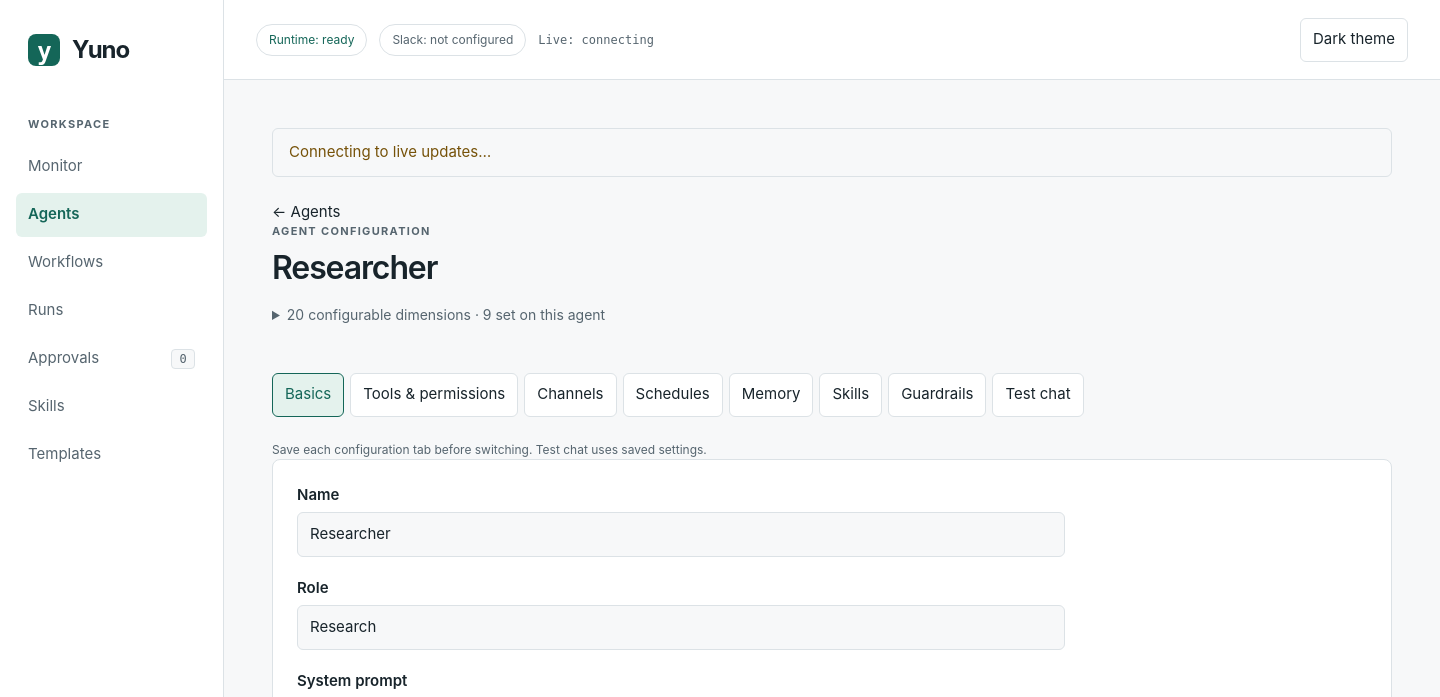
T16 agent editor (R-01, R-02, R-03, R-04, R-05, R-20) › R-01 R-02 shows server field validation beside the responsible field without changing persisted state
Replace the text in the field labelled "Name" with "Taken name" at coordinates (681, 534), box x1=297 y1=512 x2=1065 y2=556
(page scrolled)
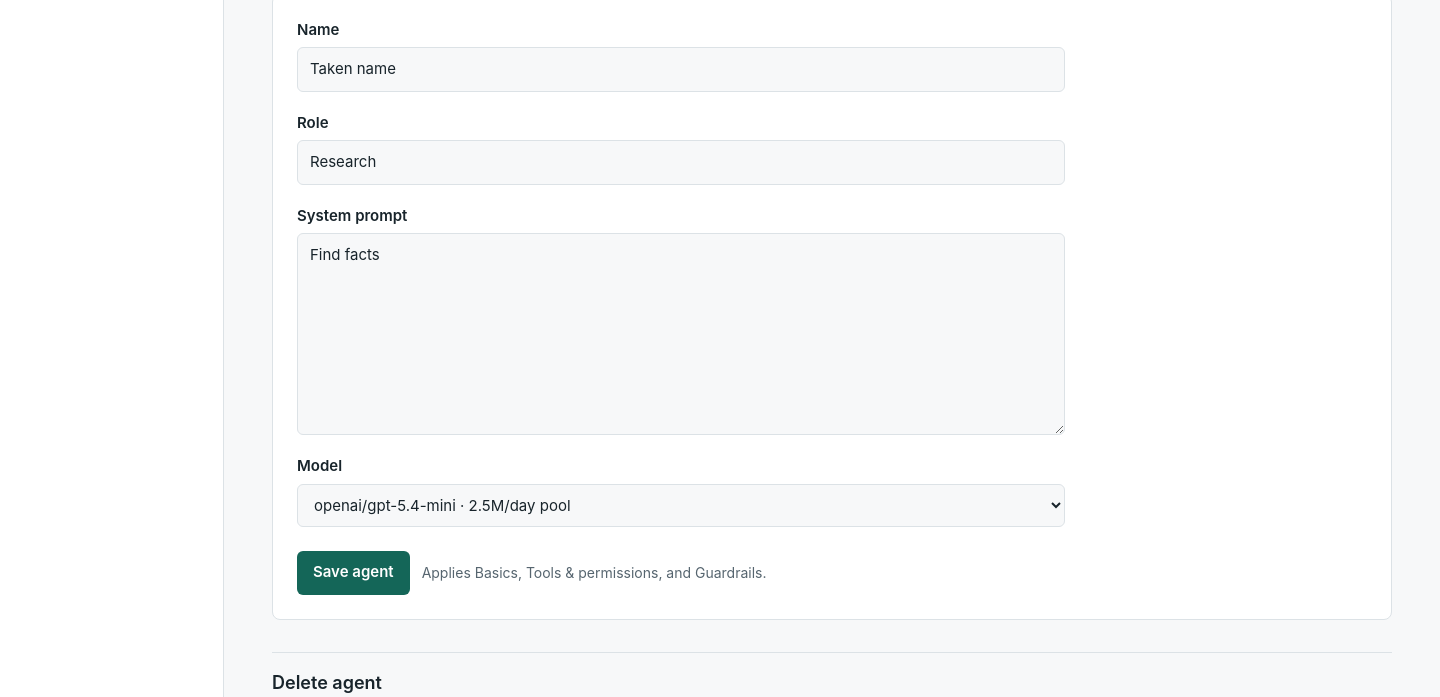
Click the button "Save agent" at coordinates (353, 572), box x1=297 y1=550 x2=410 y2=594
(page scrolled)
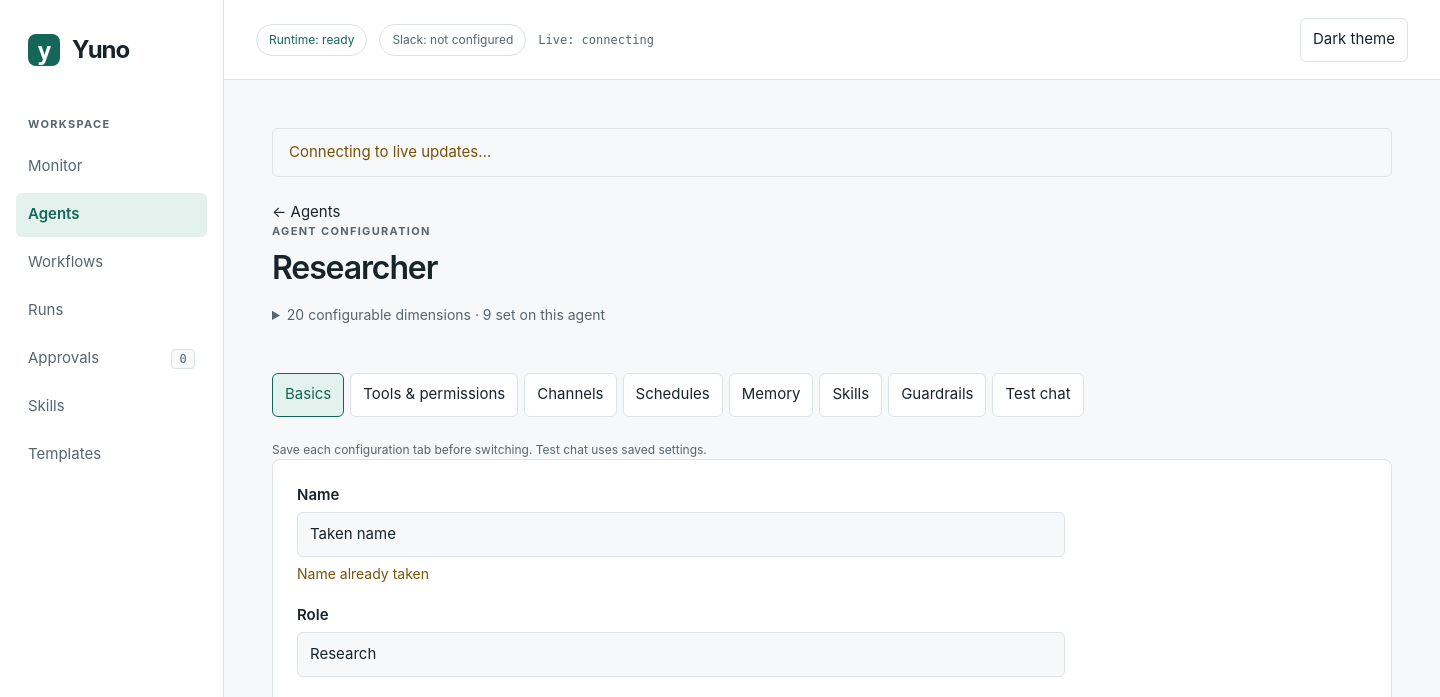
Expected: the heading "Researcher" is shown, x1=272 y1=248 x2=437 y2=286
Result: the text "Name already taken" is shown at x1=297 y1=564 x2=429 y2=582
